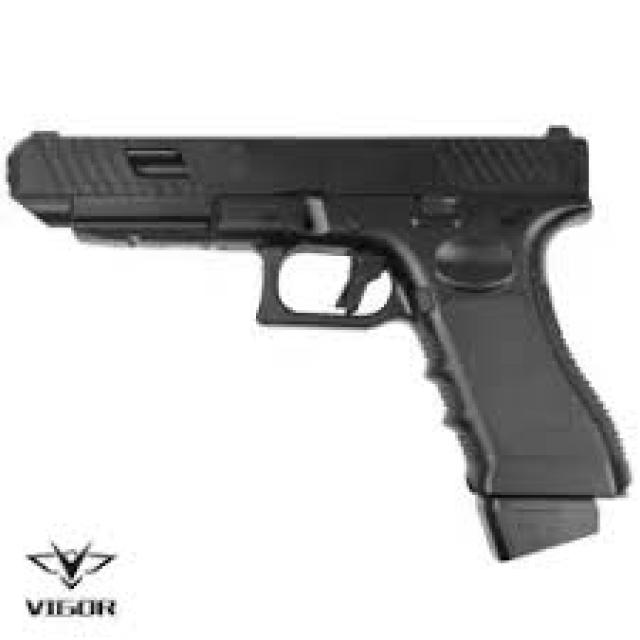handgun: (1, 126, 634, 558)
